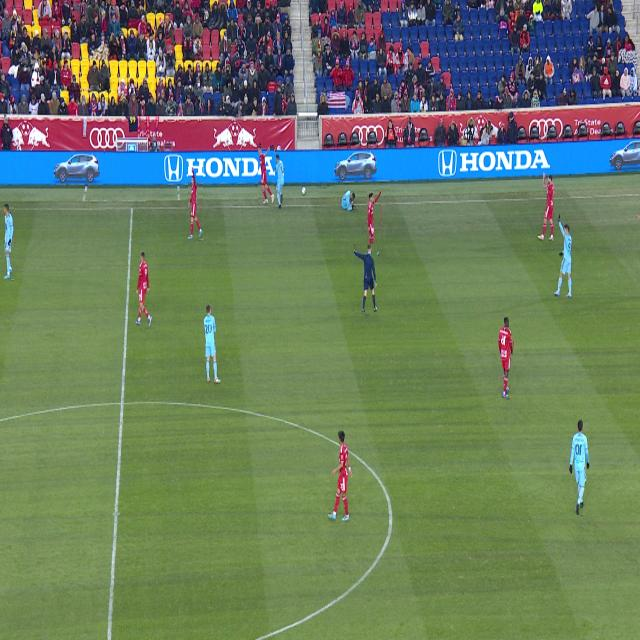player: (328, 430, 352, 520), (569, 420, 590, 515), (354, 244, 377, 314), (554, 214, 572, 297), (204, 305, 221, 383), (136, 252, 152, 326), (499, 317, 513, 398), (538, 173, 554, 240), (188, 168, 203, 239), (259, 145, 274, 204), (368, 191, 381, 252), (4, 204, 14, 279), (276, 154, 284, 208), (341, 190, 355, 211)
referee: (354, 244, 381, 314)
